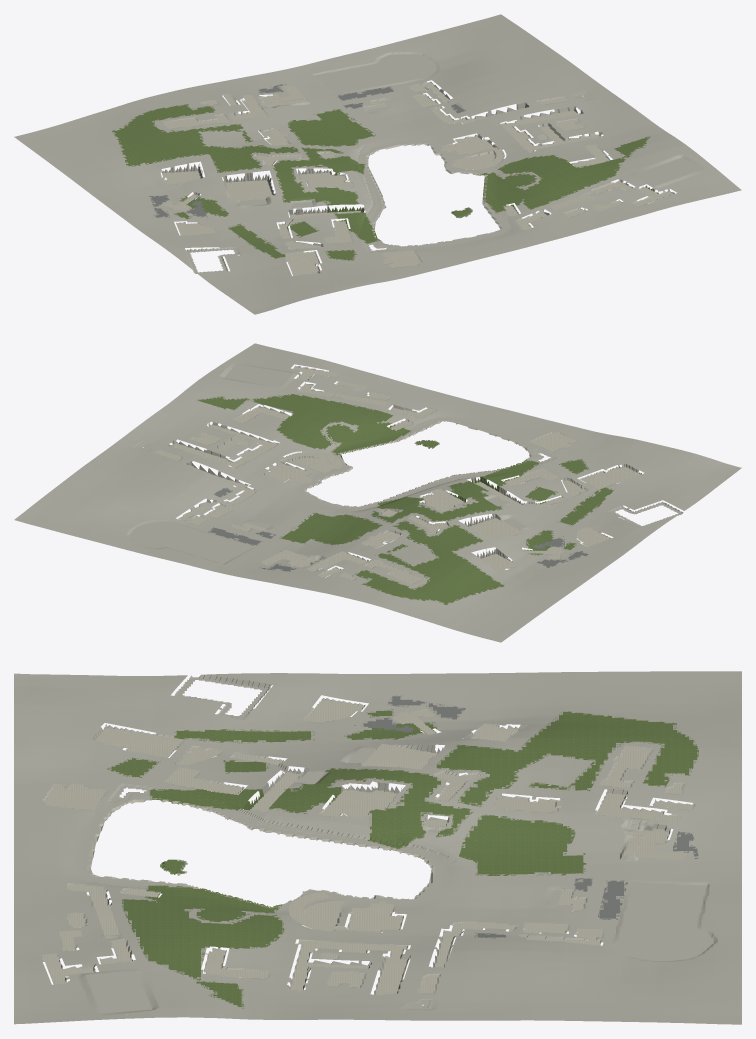
3 views of the same model, one above another, from view 1: azimuth 30°, elevation 25°; view 2: azimuth 150°, elevation 25°; view 3: azimuth 270°, elevation 25° (orthographic). The views are drawn at different scales.
Visible parts, largest first — view 1: ku-base, ku-paving, ku-wood, ku-woodOver, ku-grass, ku-wood-overlay, ku-asphalt, ku-woodOver-overlay; view 2: ku-base, ku-paving, ku-wood, ku-woodOver, ku-grass, ku-asphalt, ku-wood-overlay, ku-woodOver-overlay; view 3: ku-base, ku-paving, ku-wood, ku-woodOver, ku-grass, ku-asphalt, ku-wood-overlay, ku-woodOver-overlay, ku-asphalt-overlay.
Part boxes in pixels (<box>): ku-base: <box>14,14,741,314</box>; ku-paving: <box>162,82,673,275</box>; ku-wood: <box>113,104,648,260</box>; ku-woodOver: <box>176,109,525,258</box>; ku-grass: <box>288,119,535,186</box>; ku-wood-overlay: <box>112,104,649,260</box>; ku-asphalt: <box>150,85,464,217</box>; ku-woodOver-overlay: <box>174,109,525,258</box>; ku-base: <box>14,343,741,642</box>; ku-paving: <box>155,367,640,584</box>; ku-wood: <box>198,394,588,604</box>; ku-woodOver: <box>281,422,613,554</box>; ku-grass: <box>311,424,381,544</box>; ku-asphalt: <box>208,488,588,571</box>; ku-wood-overlay: <box>197,394,589,604</box>; ku-woodOver-overlay: <box>279,422,613,555</box>; ku-base: <box>14,671,741,1024</box>; ku-paving: <box>42,699,693,995</box>; ku-wood: <box>111,711,697,1006</box>; ku-woodOver: <box>146,711,583,912</box>; ku-grass: <box>197,815,575,921</box>; ku-asphalt: <box>363,696,697,937</box>; ku-wood-overlay: <box>107,711,698,1008</box>; ku-woodOver-overlay: <box>145,709,586,913</box>; ku-asphalt-overlay: <box>354,695,698,938</box>.
Bounding box in the file's own units: 836 × 22.09 × 716.
Materials: 15 (13 with a texture image).
